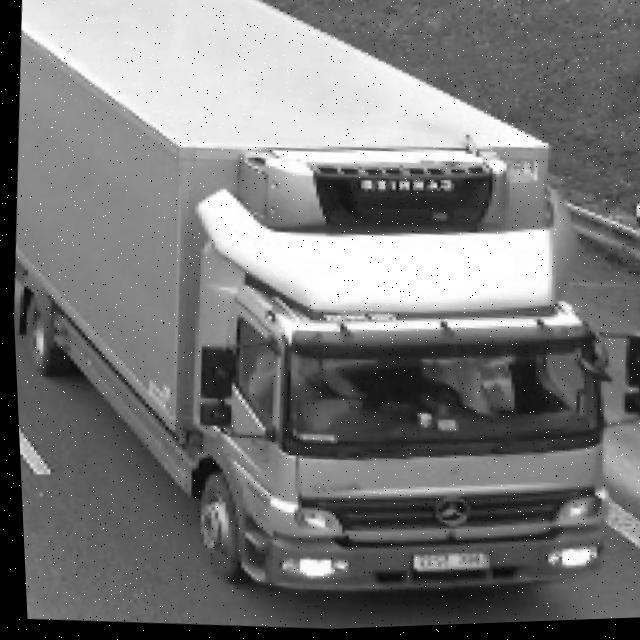truck: (141, 121, 640, 620)
